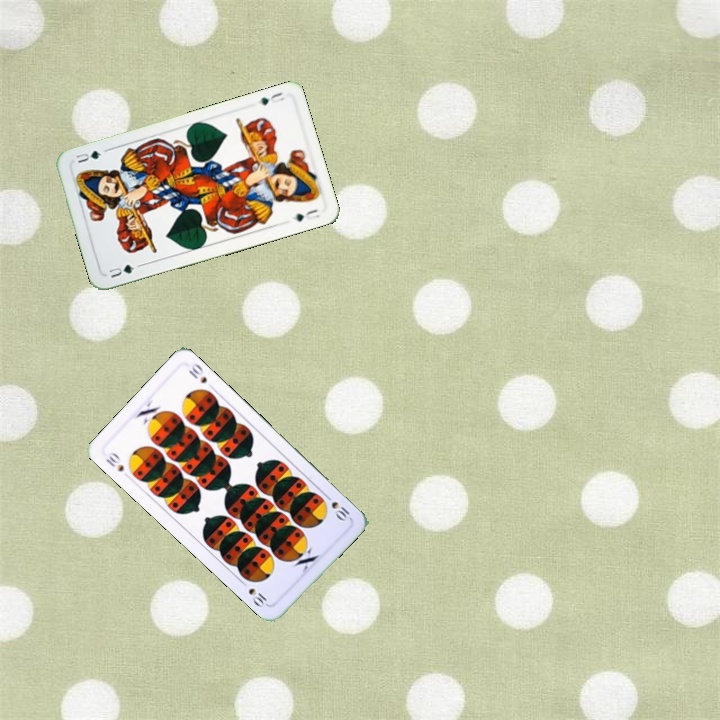GU: (105, 260, 137, 281), (256, 88, 287, 108)
S10: (320, 490, 352, 524), (101, 448, 126, 474)
